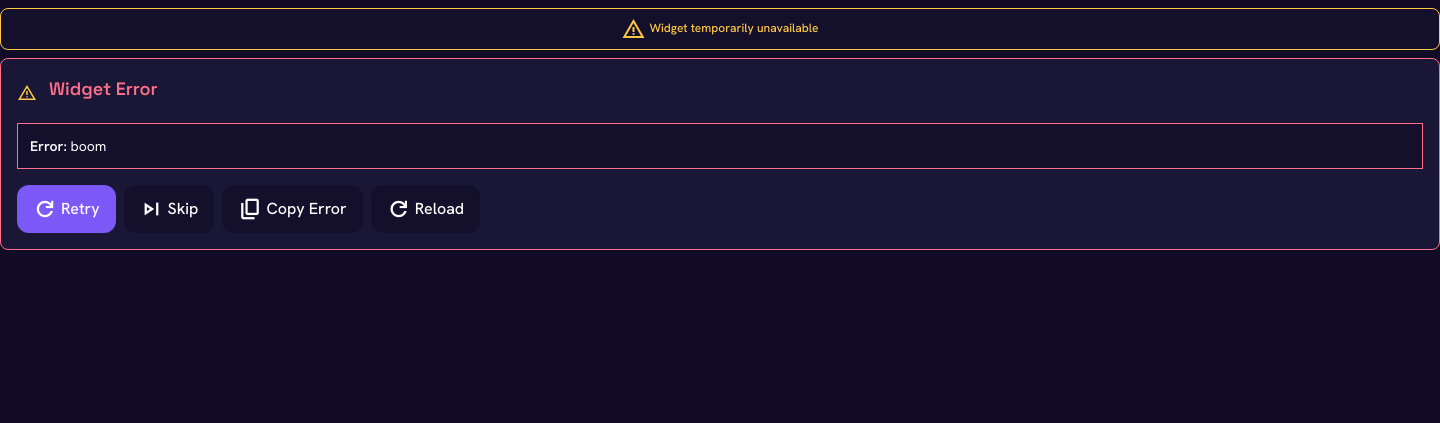
FeatureErrorBoundary › offers a reload control once retries are exhausted
Click the button "Retry" at point(66, 209), box [17,185,116,233]
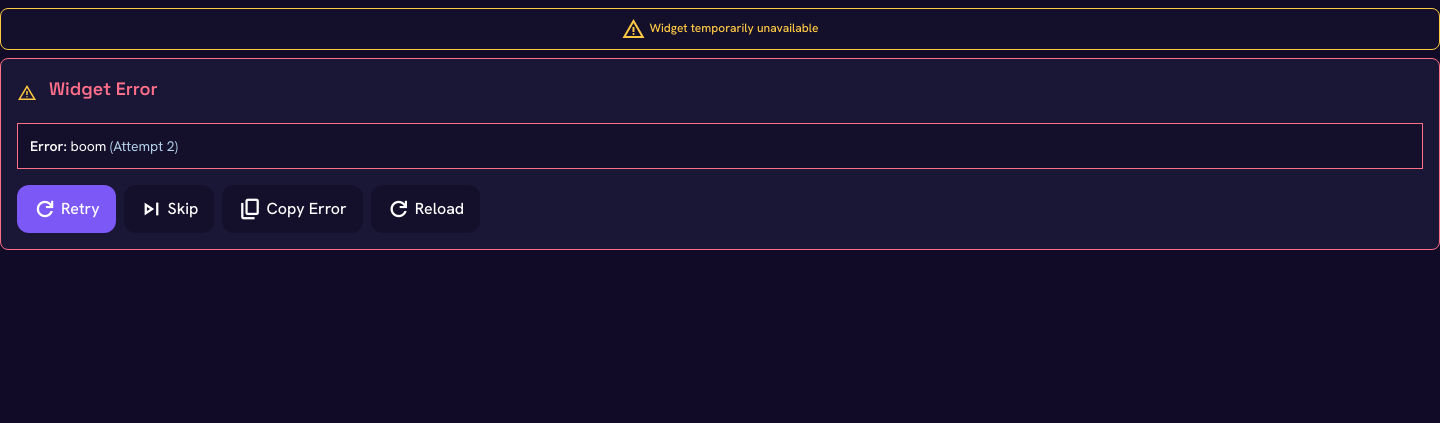
Click the button "Retry" at point(66, 209), box [17,185,116,233]
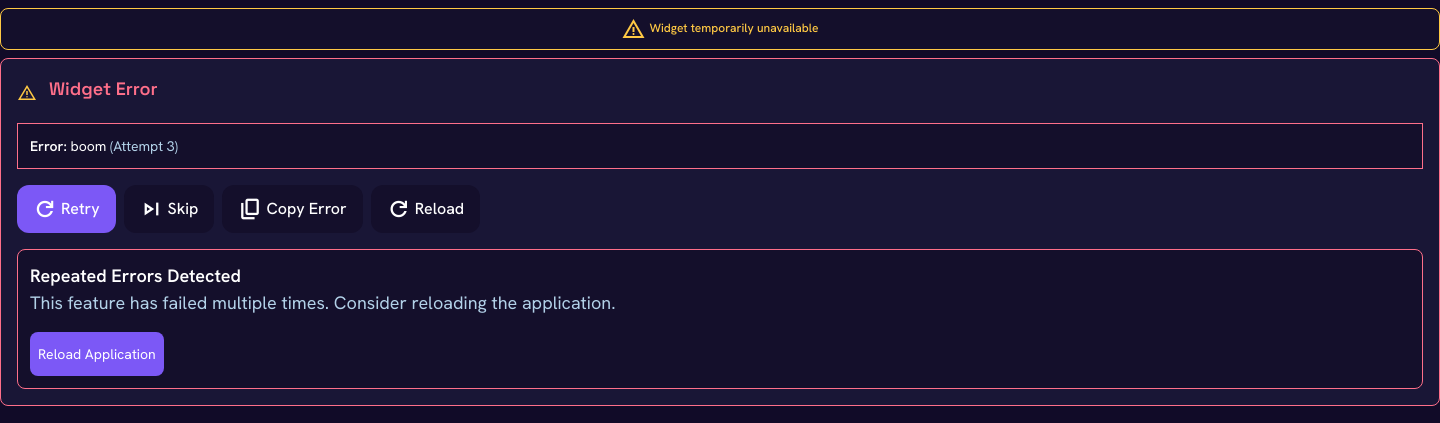
Click the button "Retry" at point(66, 209), box [17,185,116,233]
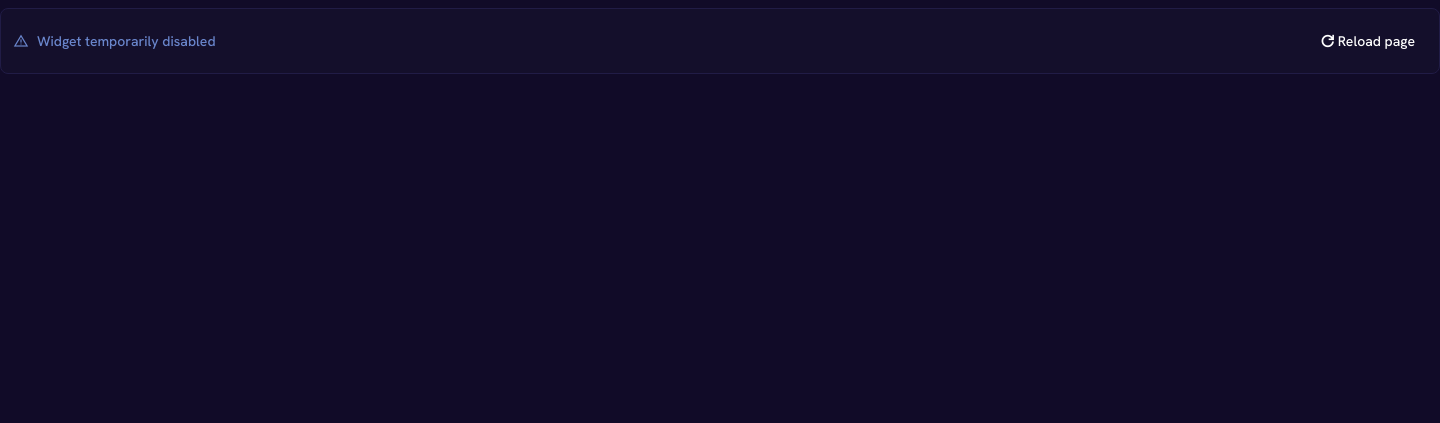
Expected: the text "Widget temporarily disabled" is shown, [37,32,216,50]
Expected: the button "Reload page" is shown, [1306,21,1427,61]
